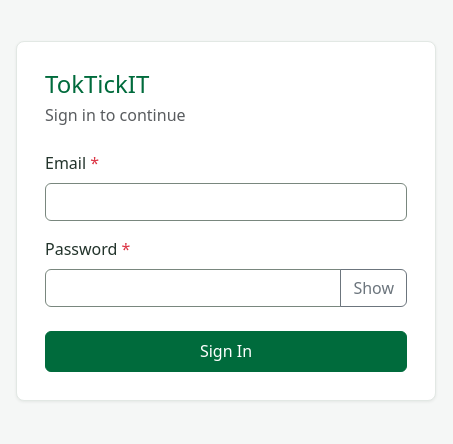
Test case: C-01 Login screen › shows inline errors and does not submit when either field is empty
Click the button "Sign In": {"x": 226, "y": 351} [45, 331, 407, 372]
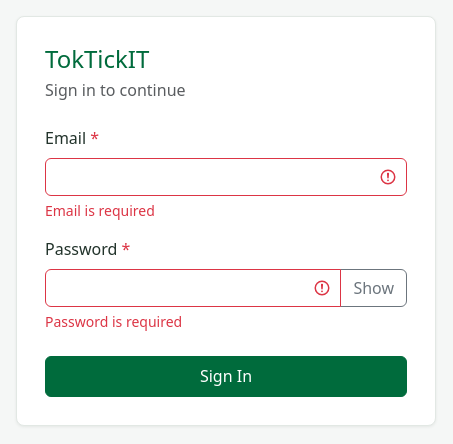
Check: the text "Email is required" is shown, box [45, 201, 155, 220]
Check: the text "Password is required" is shown, box [45, 312, 182, 331]
